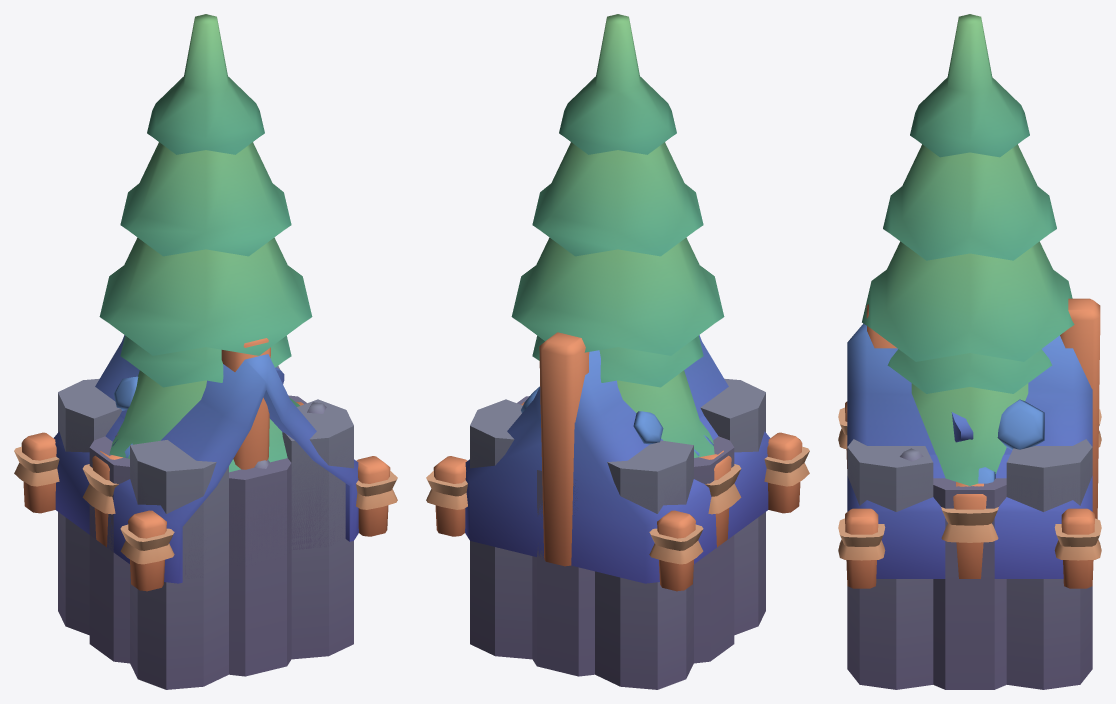
Rendered from forest.glb.
3 views of the same model, side by side, from view 1: azimuth 30°, elevation 25°; view 2: azimuth 150°, elevation 25°; view 3: azimuth 270°, elevation 25° (orthographic).
Visible parts, largest first — view 1: rocks-high, tree-high, tent, rocks-low, tree, fence; view 2: tent, rocks-high, tree-high, tree, rocks-low, fence; view 3: tree-high, rocks-high, tent, tree, rocks-low, fence, flag.
Boxes of the visible parts, <box> form: rocks-high: <box>58,366,353,689</box>; tree-high: <box>99,14,312,355</box>; tent: <box>14,335,397,591</box>; rocks-low: <box>58,395,353,578</box>; tree: <box>109,335,300,472</box>; fence: <box>82,401,303,547</box>; tent: <box>426,332,809,591</box>; rocks-high: <box>470,378,765,689</box>; tree-high: <box>511,14,724,355</box>; tree: <box>532,335,714,457</box>; rocks-low: <box>470,404,765,516</box>; fence: <box>521,402,741,547</box>; tree-high: <box>862,14,1074,361</box>; rocks-high: <box>847,439,1092,689</box>; tent: <box>838,298,1101,588</box>; tree: <box>887,349,1052,485</box>; rocks-low: <box>847,447,1092,525</box>; fence: <box>941,482,998,578</box>; flag: <box>951,412,973,442</box>.
Bounding box in the file's own units: 1.26 × 2.78 × 1.07.
1 material, 1 textured.
